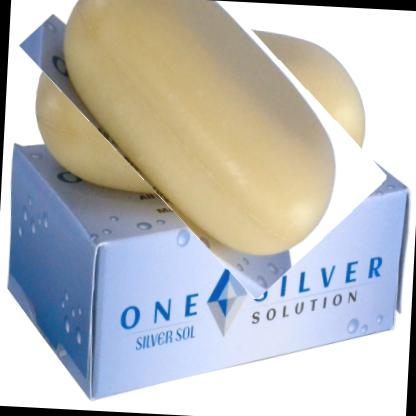soap: (15, 0, 391, 259)
